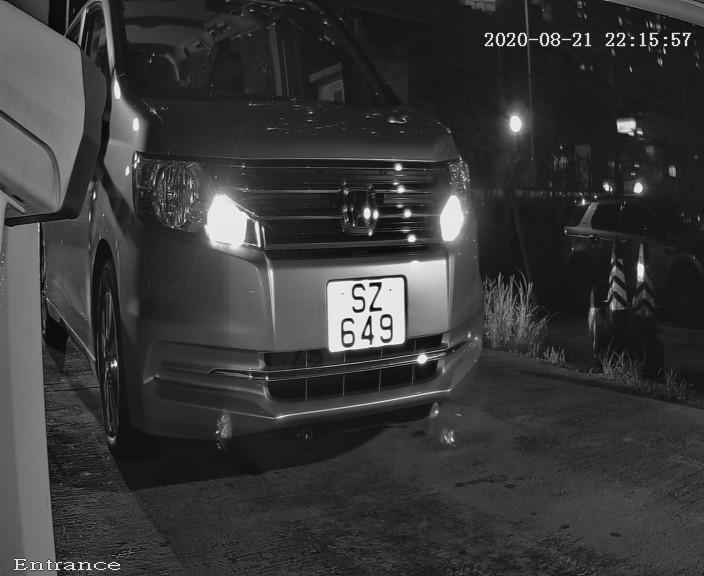Car: (35, 8, 522, 494)
License Plate: (318, 273, 415, 358)
